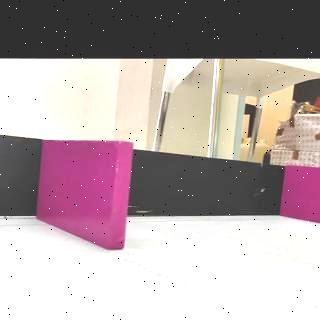xparking: (45, 139, 132, 250), (287, 166, 320, 224)
